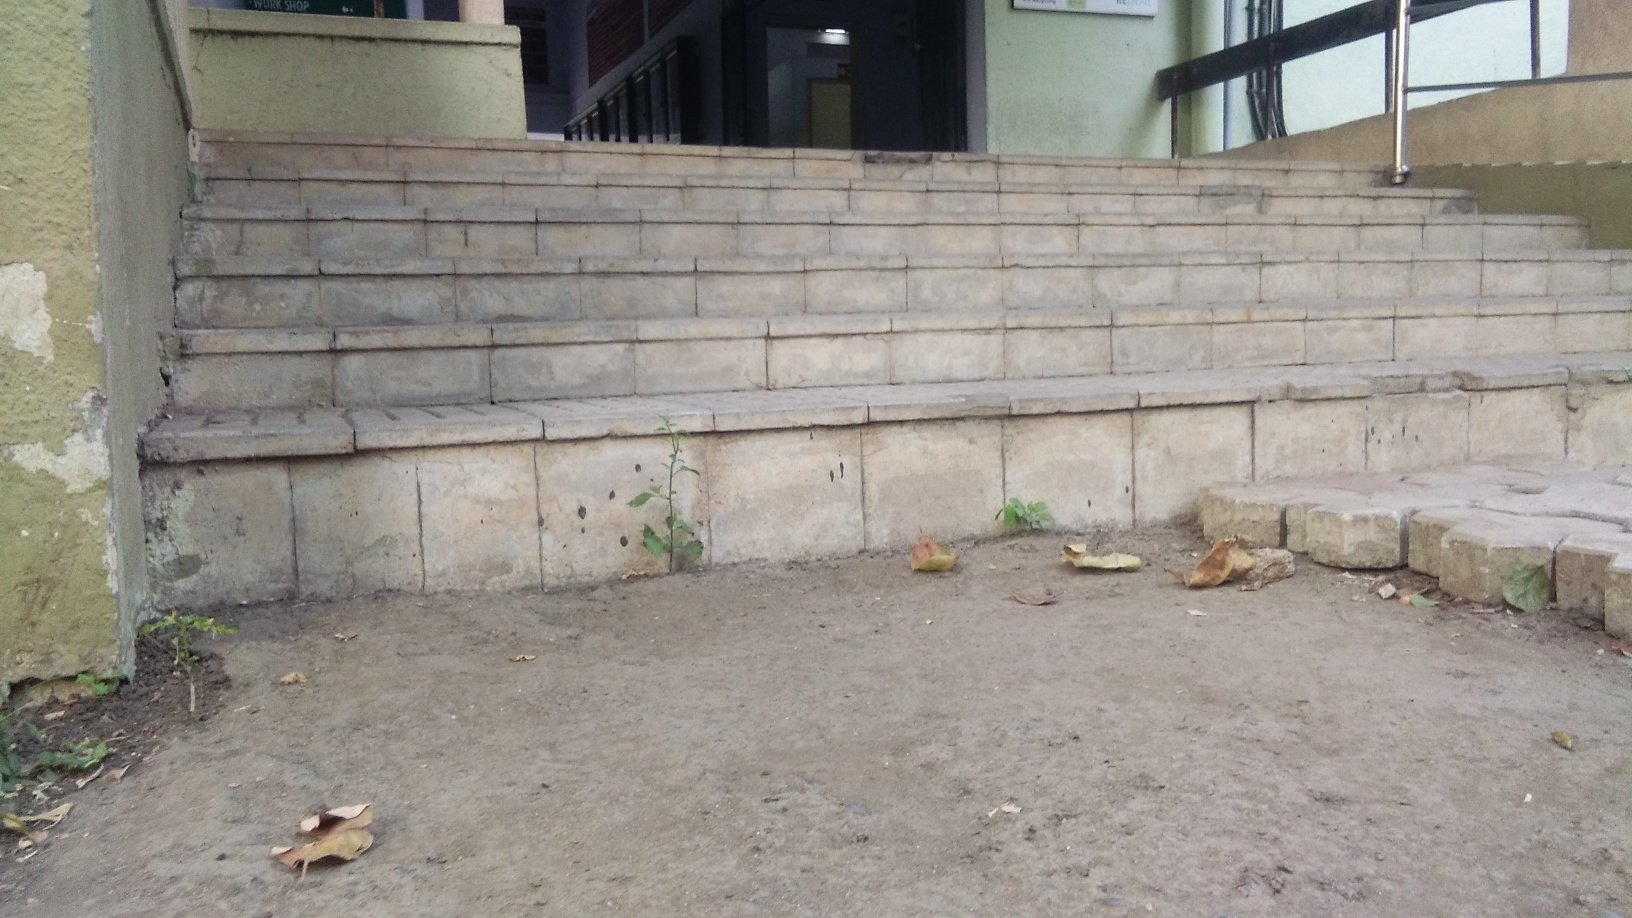stairs_up: (164, 106, 1632, 587)
